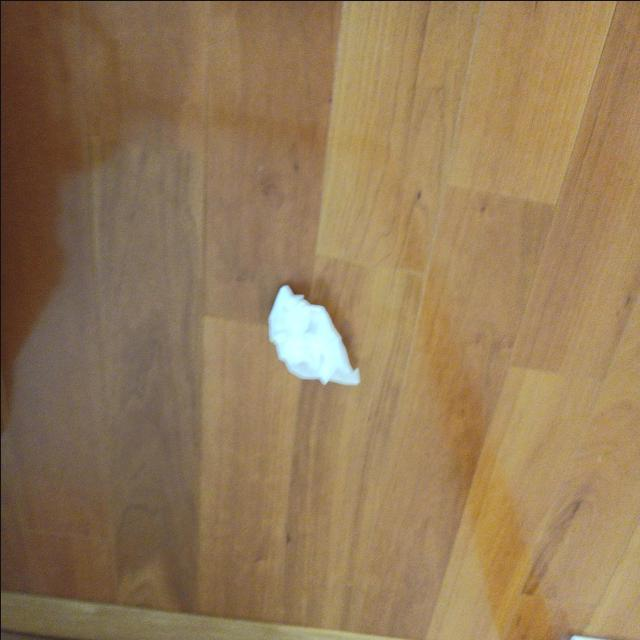Paper: (260, 284, 380, 393)
